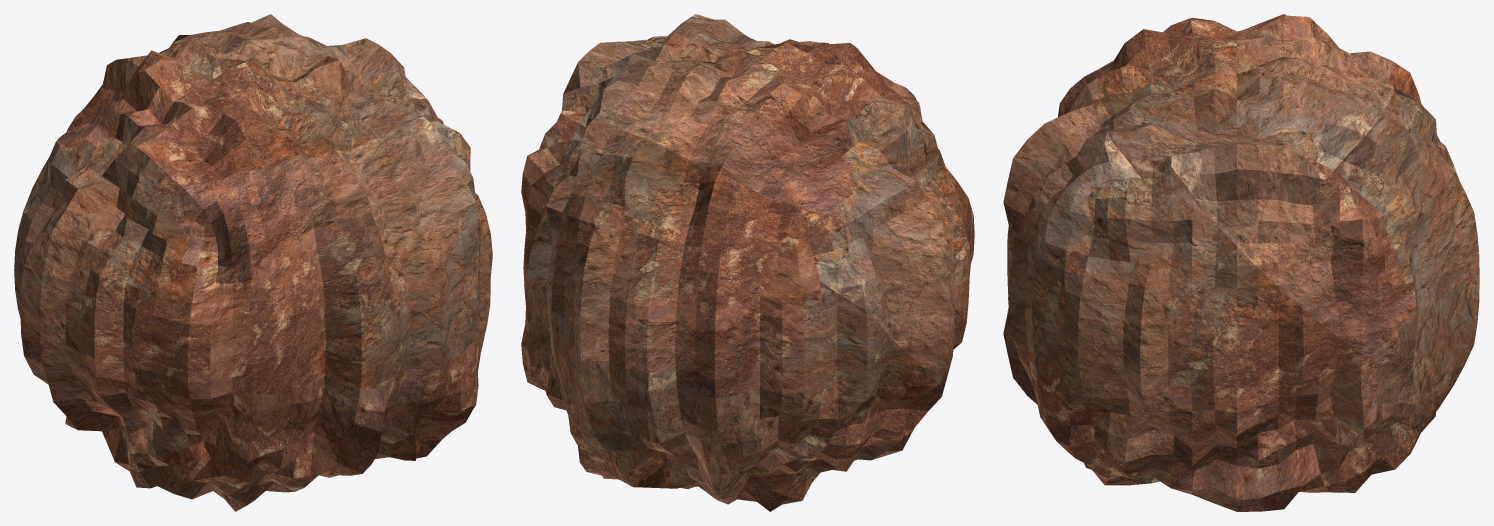
Rendered from asteroid183.obj.
3 renders of one model, left to right at view 1: azimuth 30°, elevation 25°; view 2: azimuth 150°, elevation 25°; view 3: azimuth 270°, elevation 25°, orthographic.
Parts seen in each view (by area): view 1: Cube_Cube.002; view 2: Cube_Cube.002; view 3: Cube_Cube.002.
Boxes of the visible parts, box(x1,y1,x2,y2) form: Cube_Cube.002: box(14, 14, 492, 511); Cube_Cube.002: box(521, 14, 974, 511); Cube_Cube.002: box(1003, 14, 1479, 511).
Bounding box in the file's own units: 1.8 × 1.74 × 1.76.
